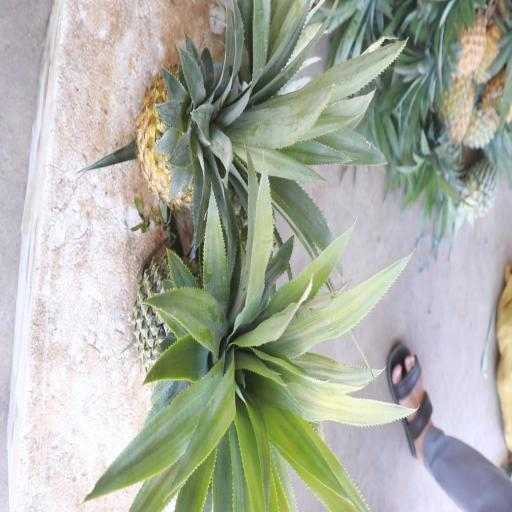Pineapple - v8 v1: (132, 54, 309, 222)
